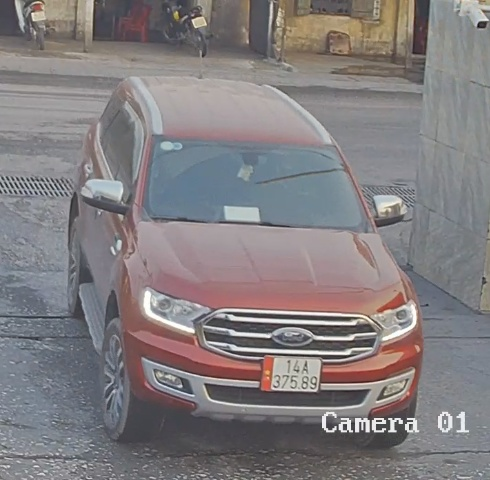vehicle plate: (259, 345, 326, 396)
